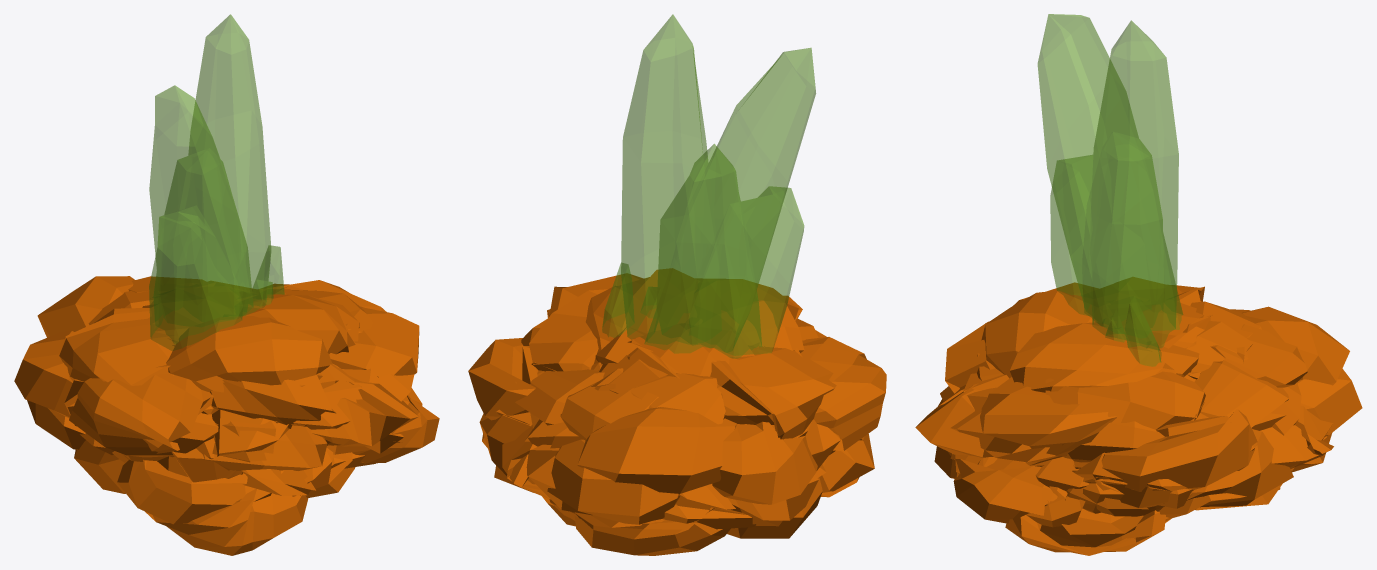
File: crystal13.obj
3 renders of one model, left to right at view 1: azimuth 30°, elevation 25°; view 2: azimuth 150°, elevation 25°; view 3: azimuth 270°, elevation 25°, orthographic. The views are drawn at different scales.
Parts seen in each view (by area): view 1: Cube.001, Circle; view 2: Cube.001, Circle; view 3: Cube.001, Circle.
Boxes of the visible parts, x1,y1,x2,y2 form: Cube.001: (14,276,439,555); Circle: (149,14,284,350); Cube.001: (468,268,886,555); Circle: (602,14,815,358); Cube.001: (915,277,1362,555); Circle: (1037,14,1183,366).
Size of the model in its own units: 2.53 by 3.4 by 2.76.
